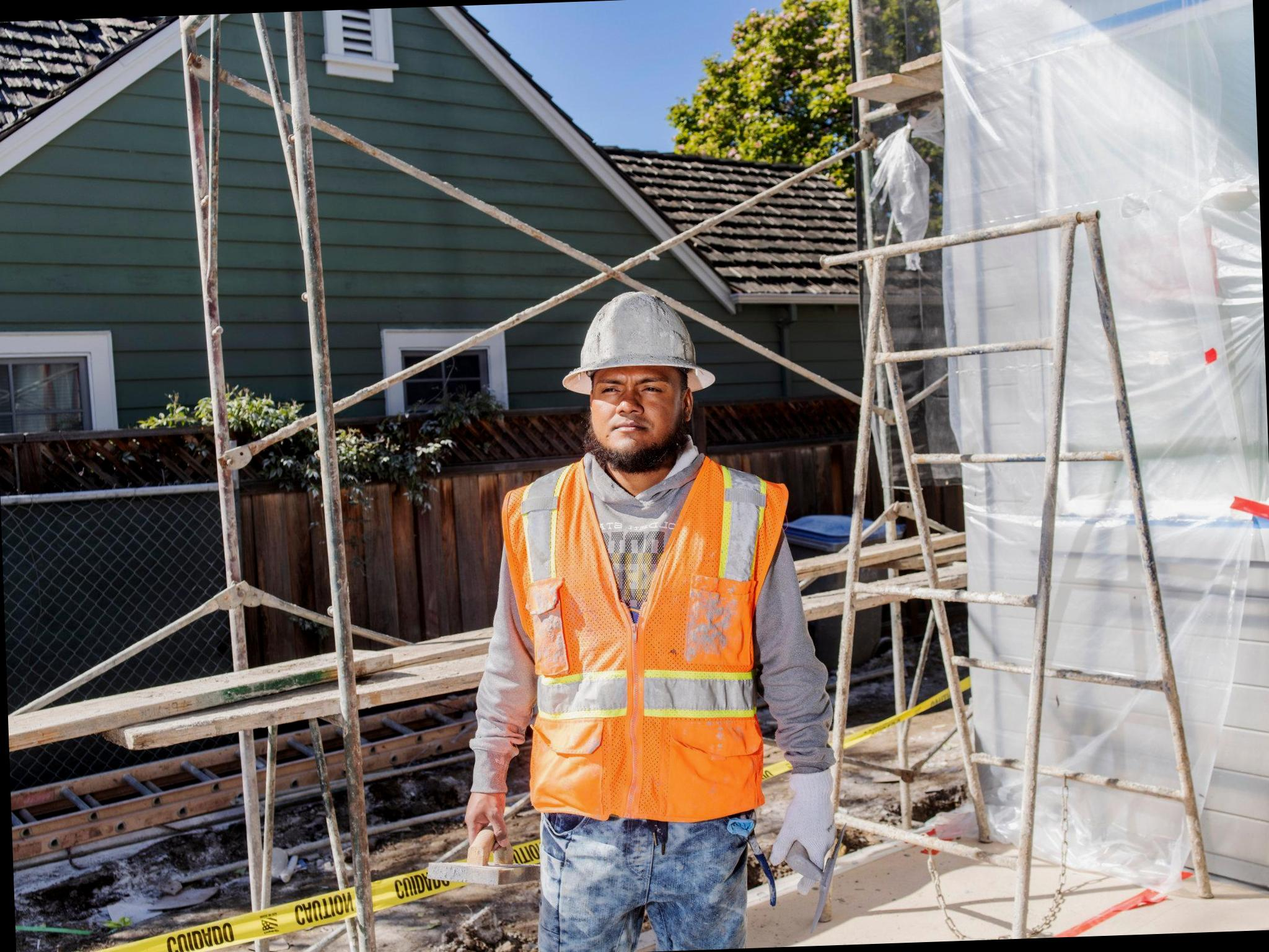helmet: (538, 288, 729, 421)
person: (467, 270, 831, 951)
